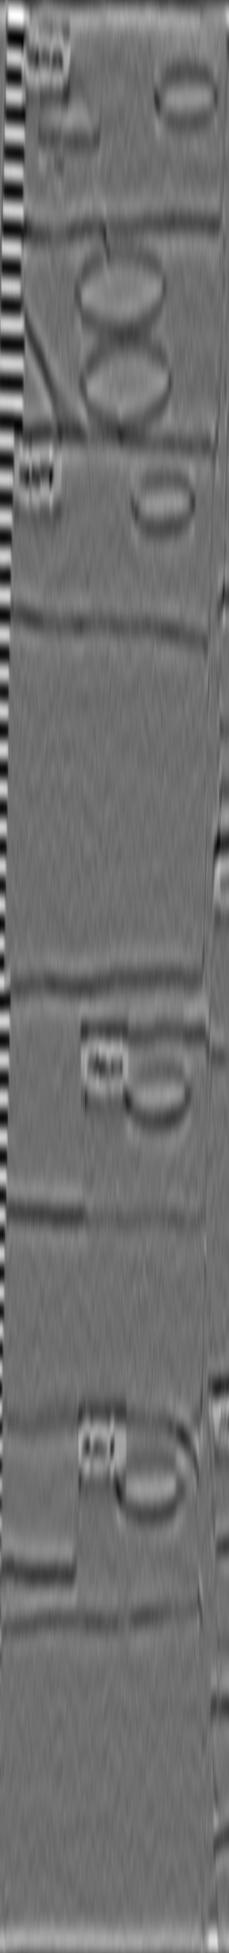hplug: (105, 1444, 193, 1530), (119, 1057, 199, 1137), (124, 463, 207, 541), (147, 54, 225, 131)
scal: (78, 335, 179, 437), (68, 239, 173, 335)
vplug: (1, 1402, 90, 1583), (11, 1059, 93, 1229), (34, 1, 111, 151), (22, 283, 71, 438)
